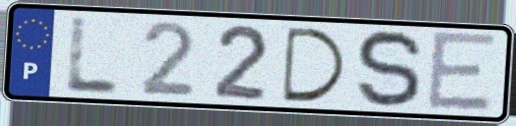2: (213, 22, 272, 104), (136, 19, 198, 97)
D: (280, 24, 350, 104)
E: (425, 28, 501, 113)
L: (62, 15, 123, 97)
S: (354, 27, 426, 111)
